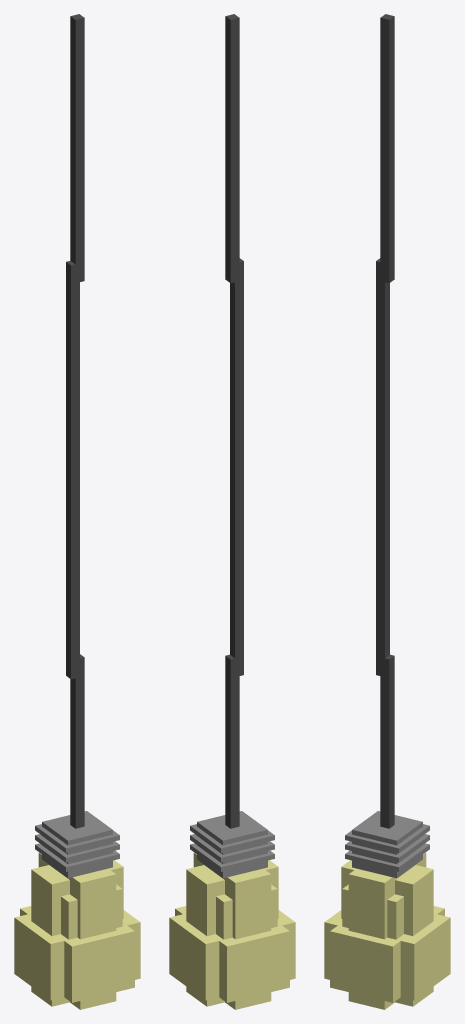
File: lamp.fbx
The picture shows the model from 3 angles, left to right: view 1: azimuth 30°, elevation 25°; view 2: azimuth 210°, elevation 25°; view 3: azimuth 330°, elevation 25°; orthographic projection.
Parts seen in each view (by area): view 1: cube_12, cube_2, cube_13, cube_3, cube_1, cube, cube_6, cube_7, cube_11, cube_8, cube_10, cube_9 (+1 smaller); view 2: cube_12, cube_2, cube_13, cube_3, cube_1, cube_6, cube, cube_7, cube_11, cube_8, cube_10, cube_9 (+1 smaller); view 3: cube_12, cube_2, cube_13, cube_3, cube_1, cube_6, cube, cube_7, cube_11, cube_8, cube_10, cube_9 (+1 smaller).
Part boxes in pixels (box(x1,y1,x2,y2)): cube_12: box(66, 260, 79, 679); cube_2: box(20, 906, 134, 1002); cube_13: box(70, 14, 84, 282); cube_3: box(14, 910, 140, 1000); cube_1: box(38, 852, 116, 939); cube: box(31, 860, 123, 935); cube_6: box(70, 654, 84, 828); cube_7: box(42, 811, 112, 878); cube_11: box(61, 884, 122, 939); cube_8: box(35, 824, 119, 852); cube_10: box(35, 834, 119, 862); cube_9: box(35, 843, 119, 871); cube_12: box(230, 258, 243, 676); cube_2: box(175, 906, 289, 1002); cube_13: box(225, 14, 239, 283); cube_3: box(169, 910, 295, 1000); cube_1: box(193, 852, 271, 939); cube_6: box(225, 654, 239, 828); cube: box(186, 860, 278, 935); cube_7: box(197, 811, 267, 878); cube_11: box(216, 884, 277, 939); cube_8: box(190, 824, 274, 852); cube_10: box(190, 834, 274, 862); cube_9: box(190, 843, 274, 871); cube_12: box(376, 258, 389, 676); cube_2: box(330, 906, 444, 1002); cube_13: box(380, 14, 394, 283); cube_3: box(324, 910, 450, 1000); cube_1: box(348, 852, 426, 939); cube_6: box(380, 654, 394, 828); cube: box(341, 860, 433, 935); cube_7: box(352, 811, 422, 878); cube_11: box(342, 884, 403, 939); cube_8: box(345, 824, 429, 852); cube_10: box(345, 834, 429, 862); cube_9: box(345, 843, 429, 871).
Bounding box in the file's own units: 31.25 × 323 × 31.25.
Materials: 3 (3 with a texture image).
